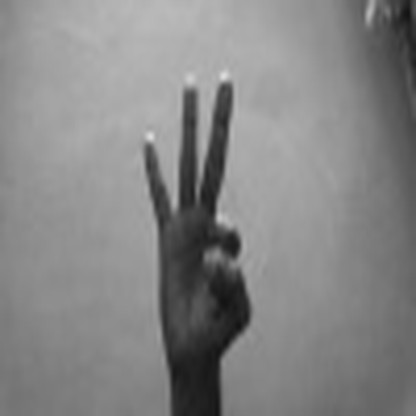f: (114, 68, 282, 342)
